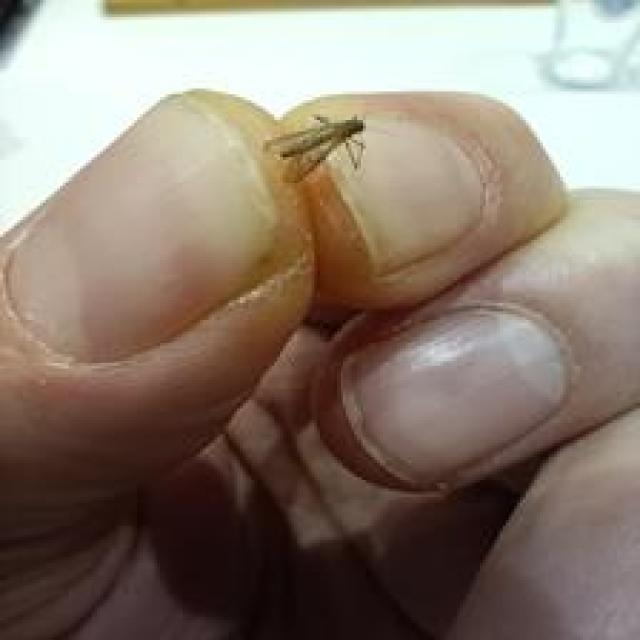Culex: (262, 113, 367, 184)
